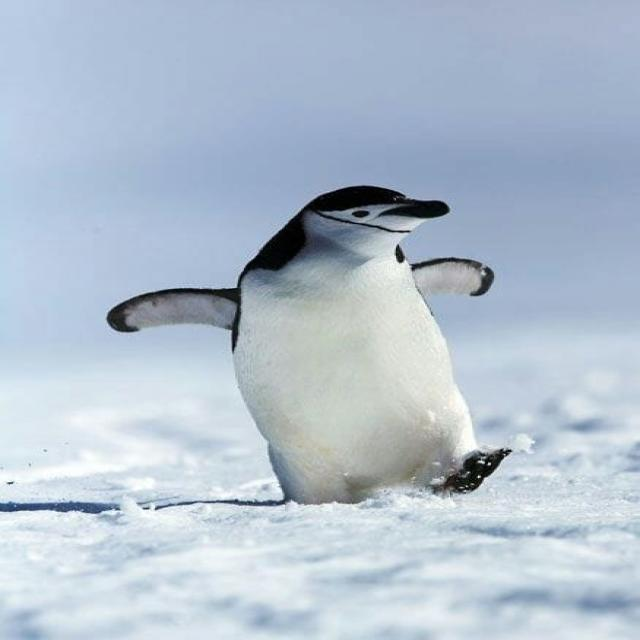Penguins: (199, 168, 511, 522)
